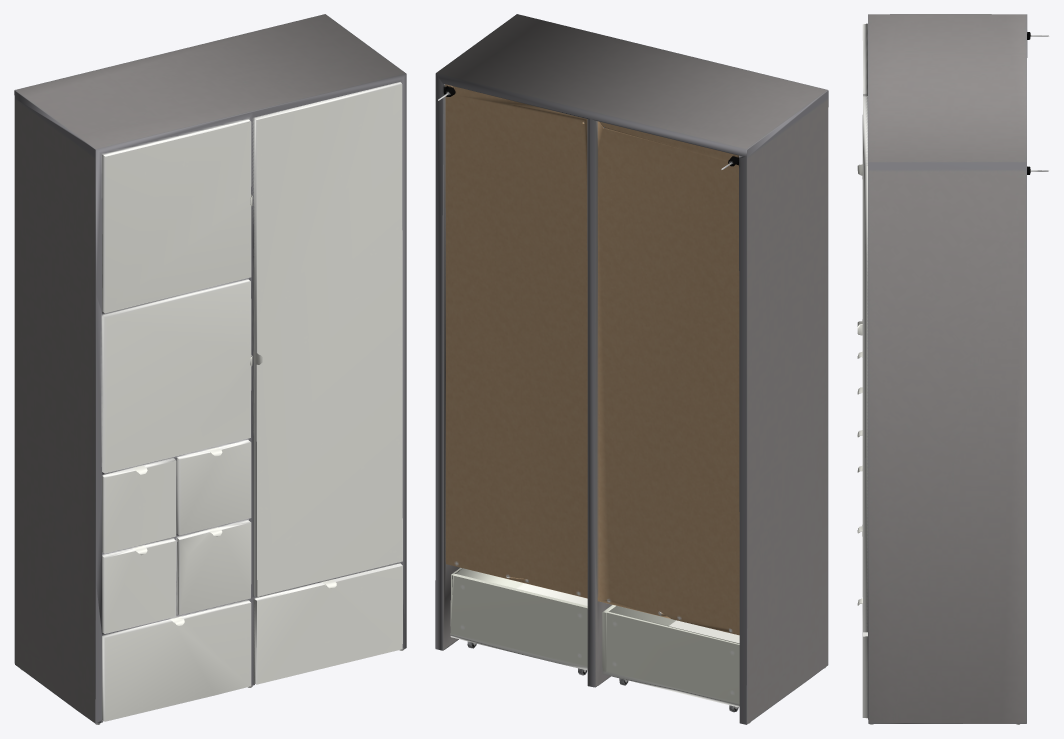
Rendered from 18 - VISTHUS Wardrobe - greywhite 122x59x216 cm.glb.
3 renders of one model, left to right at view 1: azimuth 30°, elevation 25°; view 2: azimuth 150°, elevation 25°; view 3: azimuth 270°, elevation 25°, orthographic. The views are drawn at different scales.
Visible parts, largest first — view 1: ProcessedMeshNode; view 2: ProcessedMeshNode; view 3: ProcessedMeshNode.
Part boxes in pixels (left/top/right/bottom): ProcessedMeshNode: left=14, top=14, right=406, bottom=724; ProcessedMeshNode: left=435, top=14, right=828, bottom=724; ProcessedMeshNode: left=857, top=14, right=1048, bottom=724.
Size of the model in its own units: 1.22 by 2.16 by 0.6665.
1 material, 1 textured.
